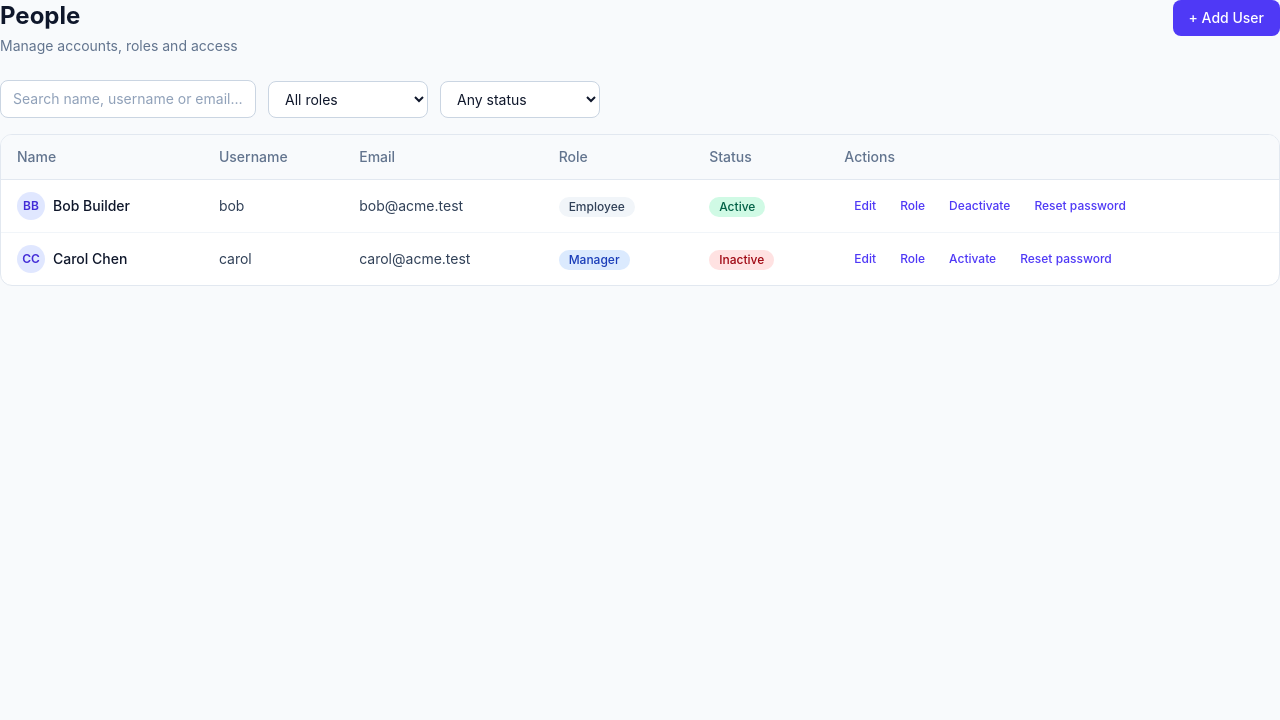
Scenario: UsersPage › keeps the form open and shows the API error when creation is rejected
Expected: the text "Bob Builder" is shown, x1=53 y1=196 x2=130 y2=216
Step 1. Click the button "+ Add User" → click(1226, 18), box x1=1172 y1=0 x2=1279 y2=36
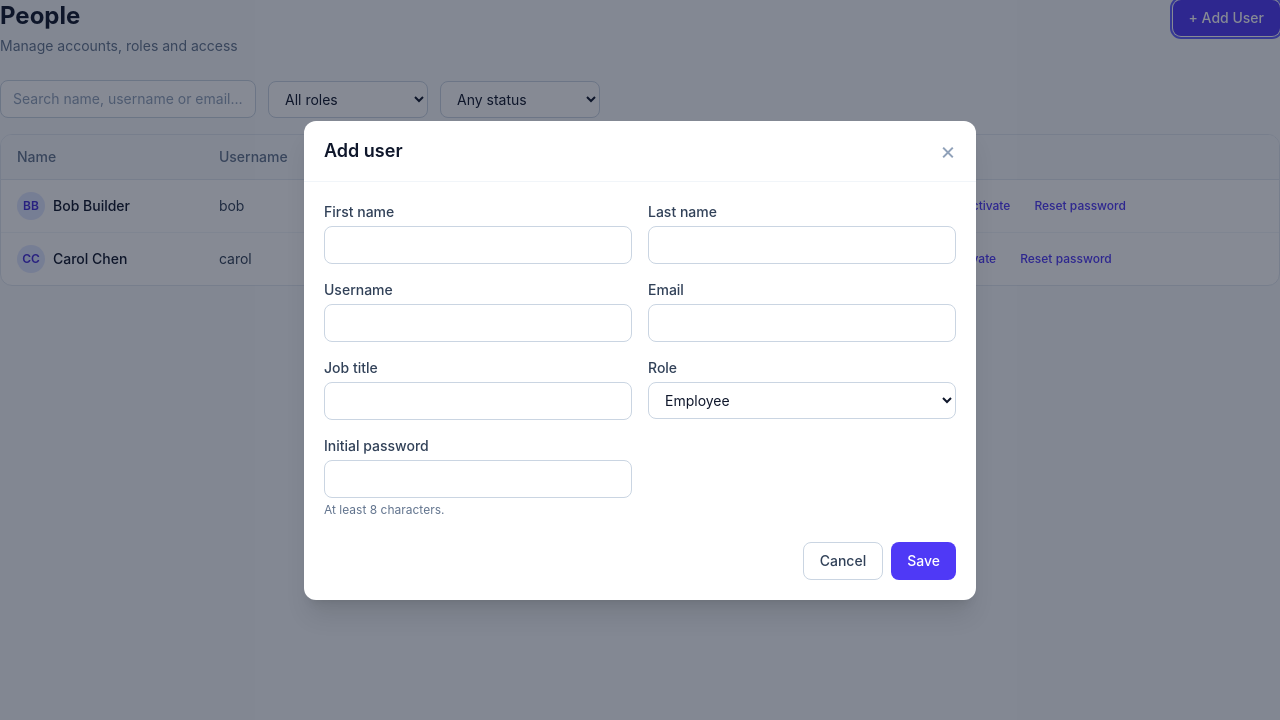
Step 2. Type "Bob" into the field labelled "First name" → (478, 244), box x1=324 y1=226 x2=632 y2=264
Step 3. Type "Again" into the field labelled "Last name" → (802, 244), box x1=648 y1=226 x2=956 y2=264
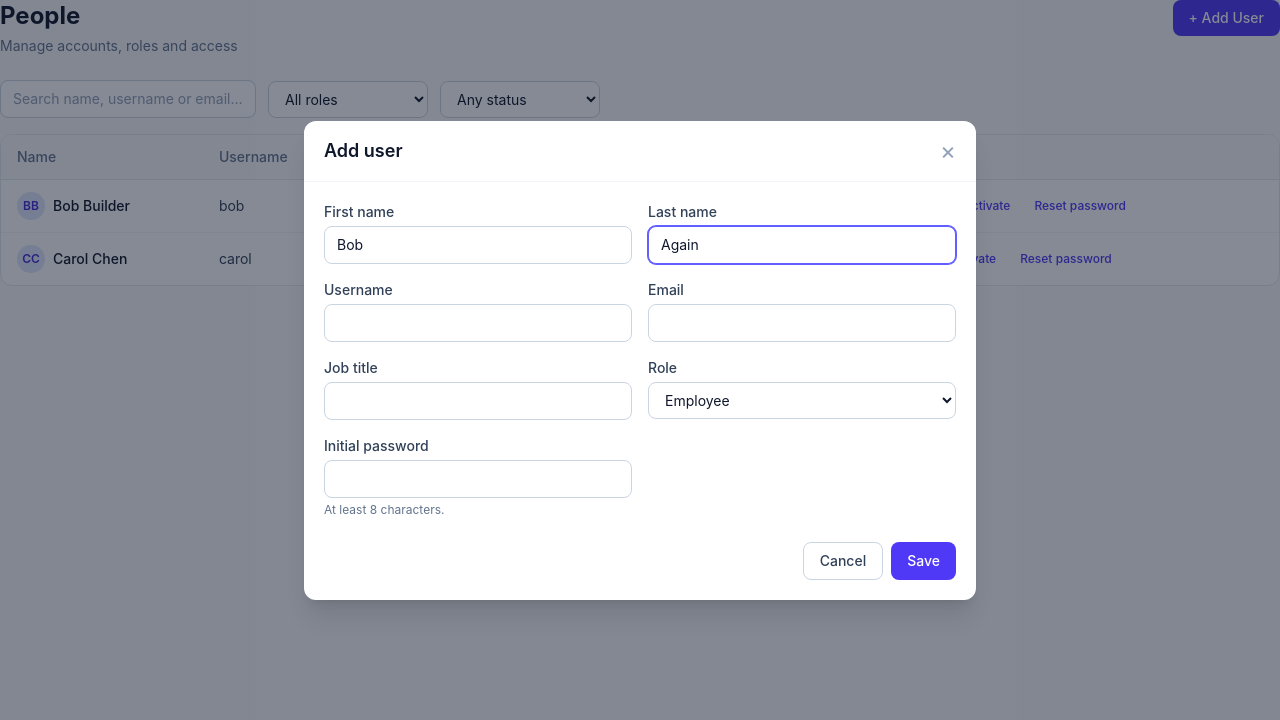
Step 4. Type "bob" into the field labelled "Username" → (478, 322), box x1=324 y1=304 x2=632 y2=342
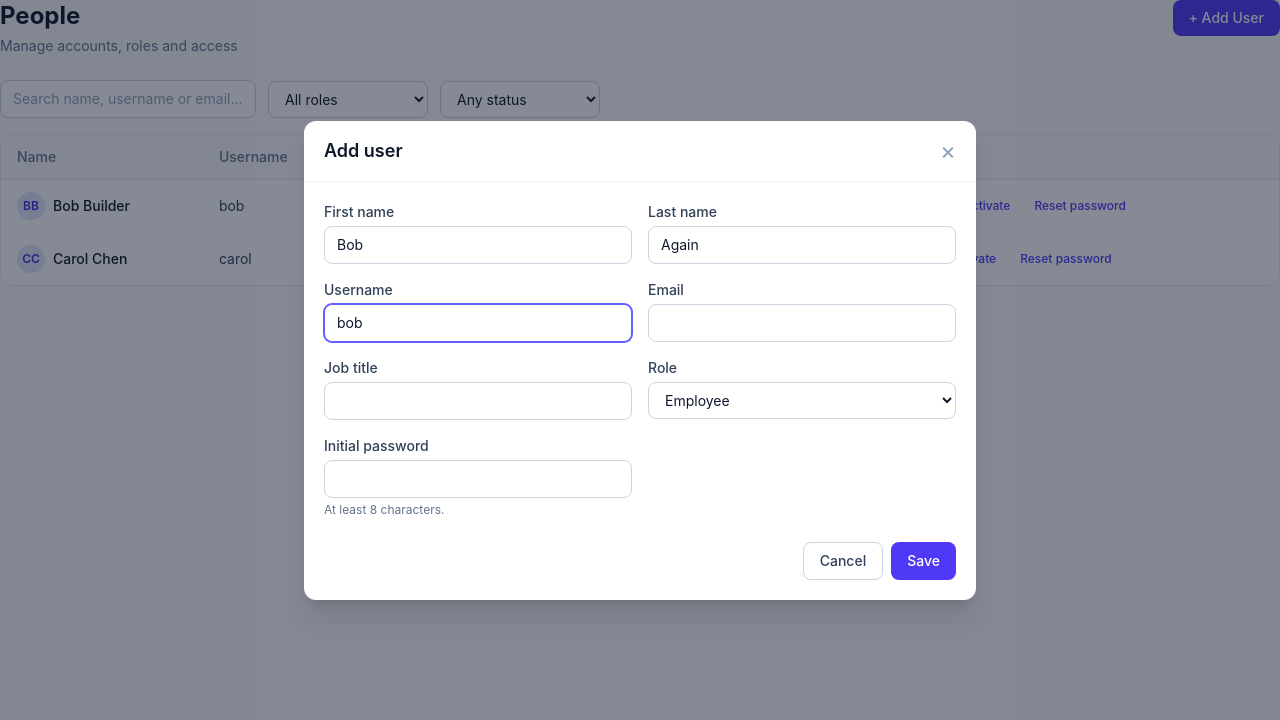
Step 5. Type "bob2@acme.test" into the field labelled "Email" → (802, 322), box x1=648 y1=304 x2=956 y2=342
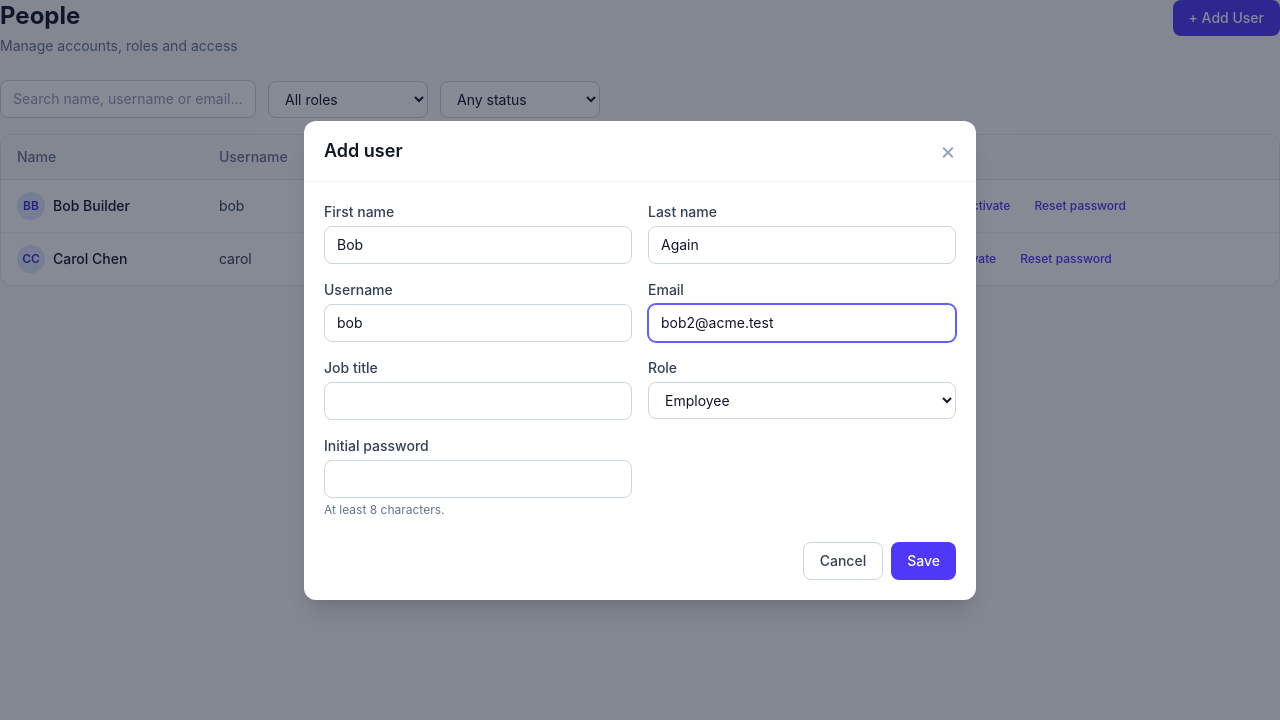
Step 6. Type "longpassword" into the password field labelled "Initial password" → (478, 478), box x1=324 y1=460 x2=632 y2=498
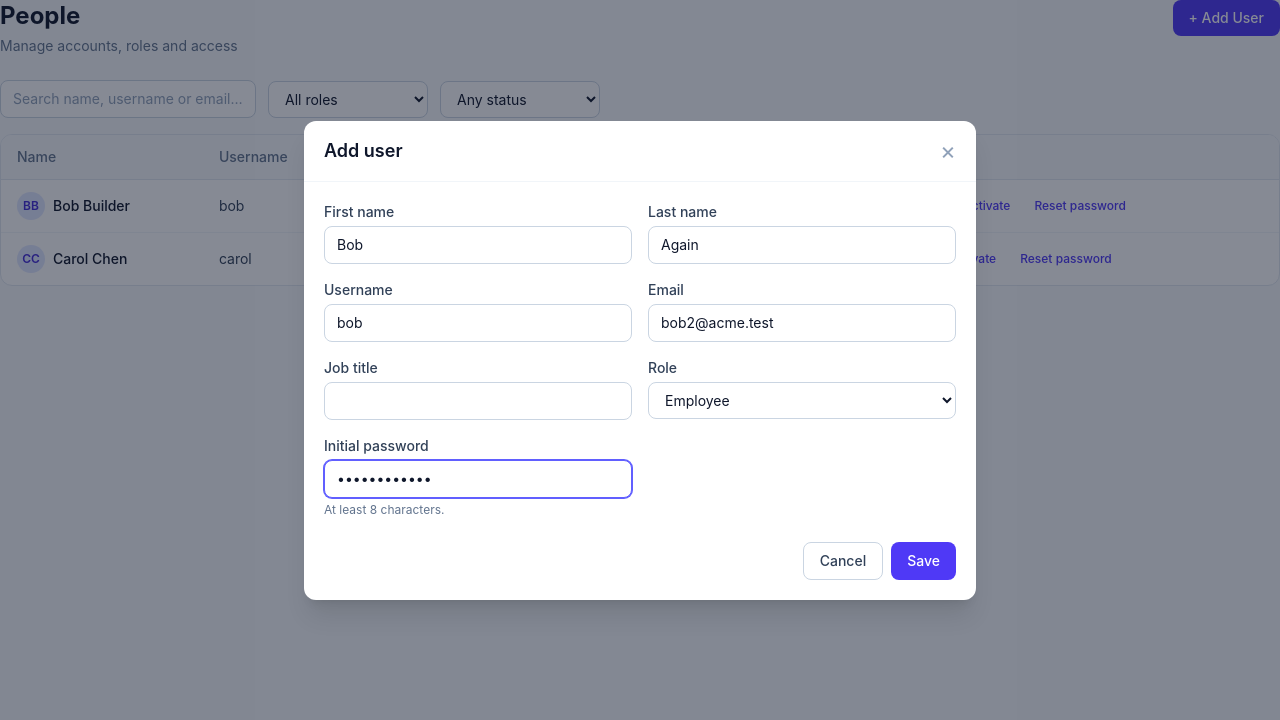
Step 7. Click the button "Save" → click(924, 560), box x1=891 y1=542 x2=956 y2=580
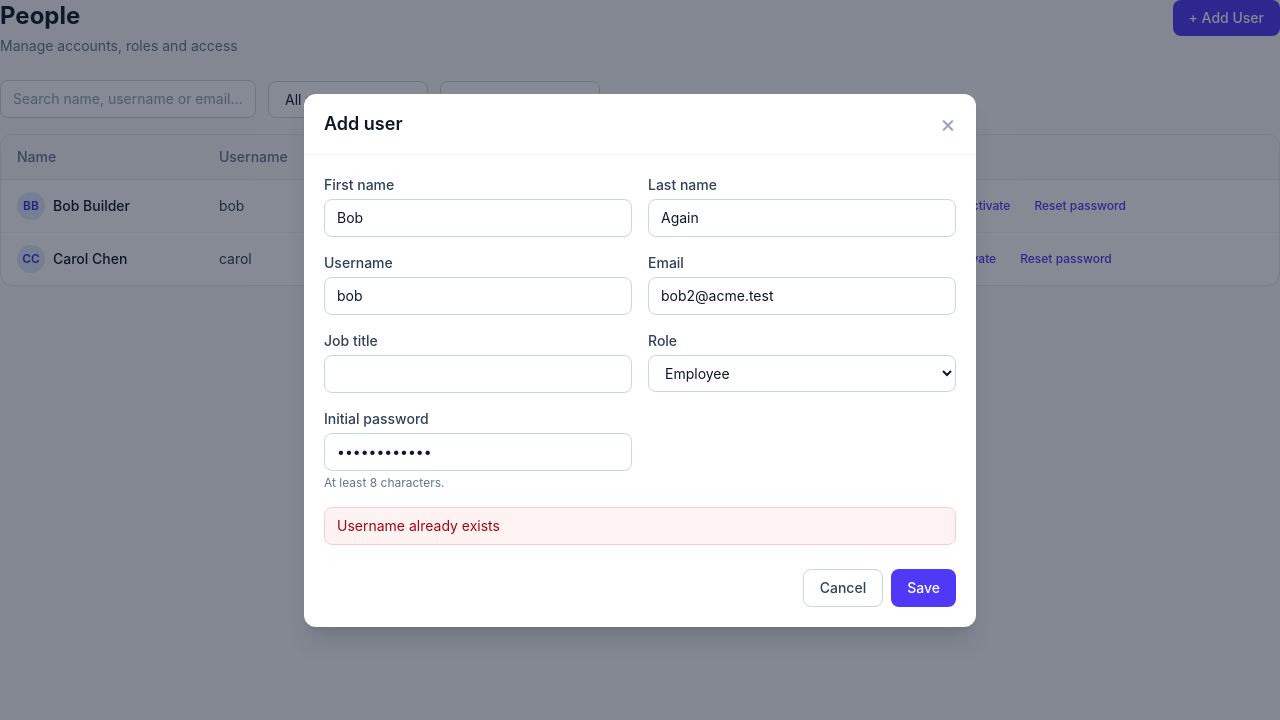
Now the button "Save" is enabled, box x1=891 y1=568 x2=956 y2=606
Now the message reads "Username already exists", box x1=337 y1=516 x2=500 y2=534
